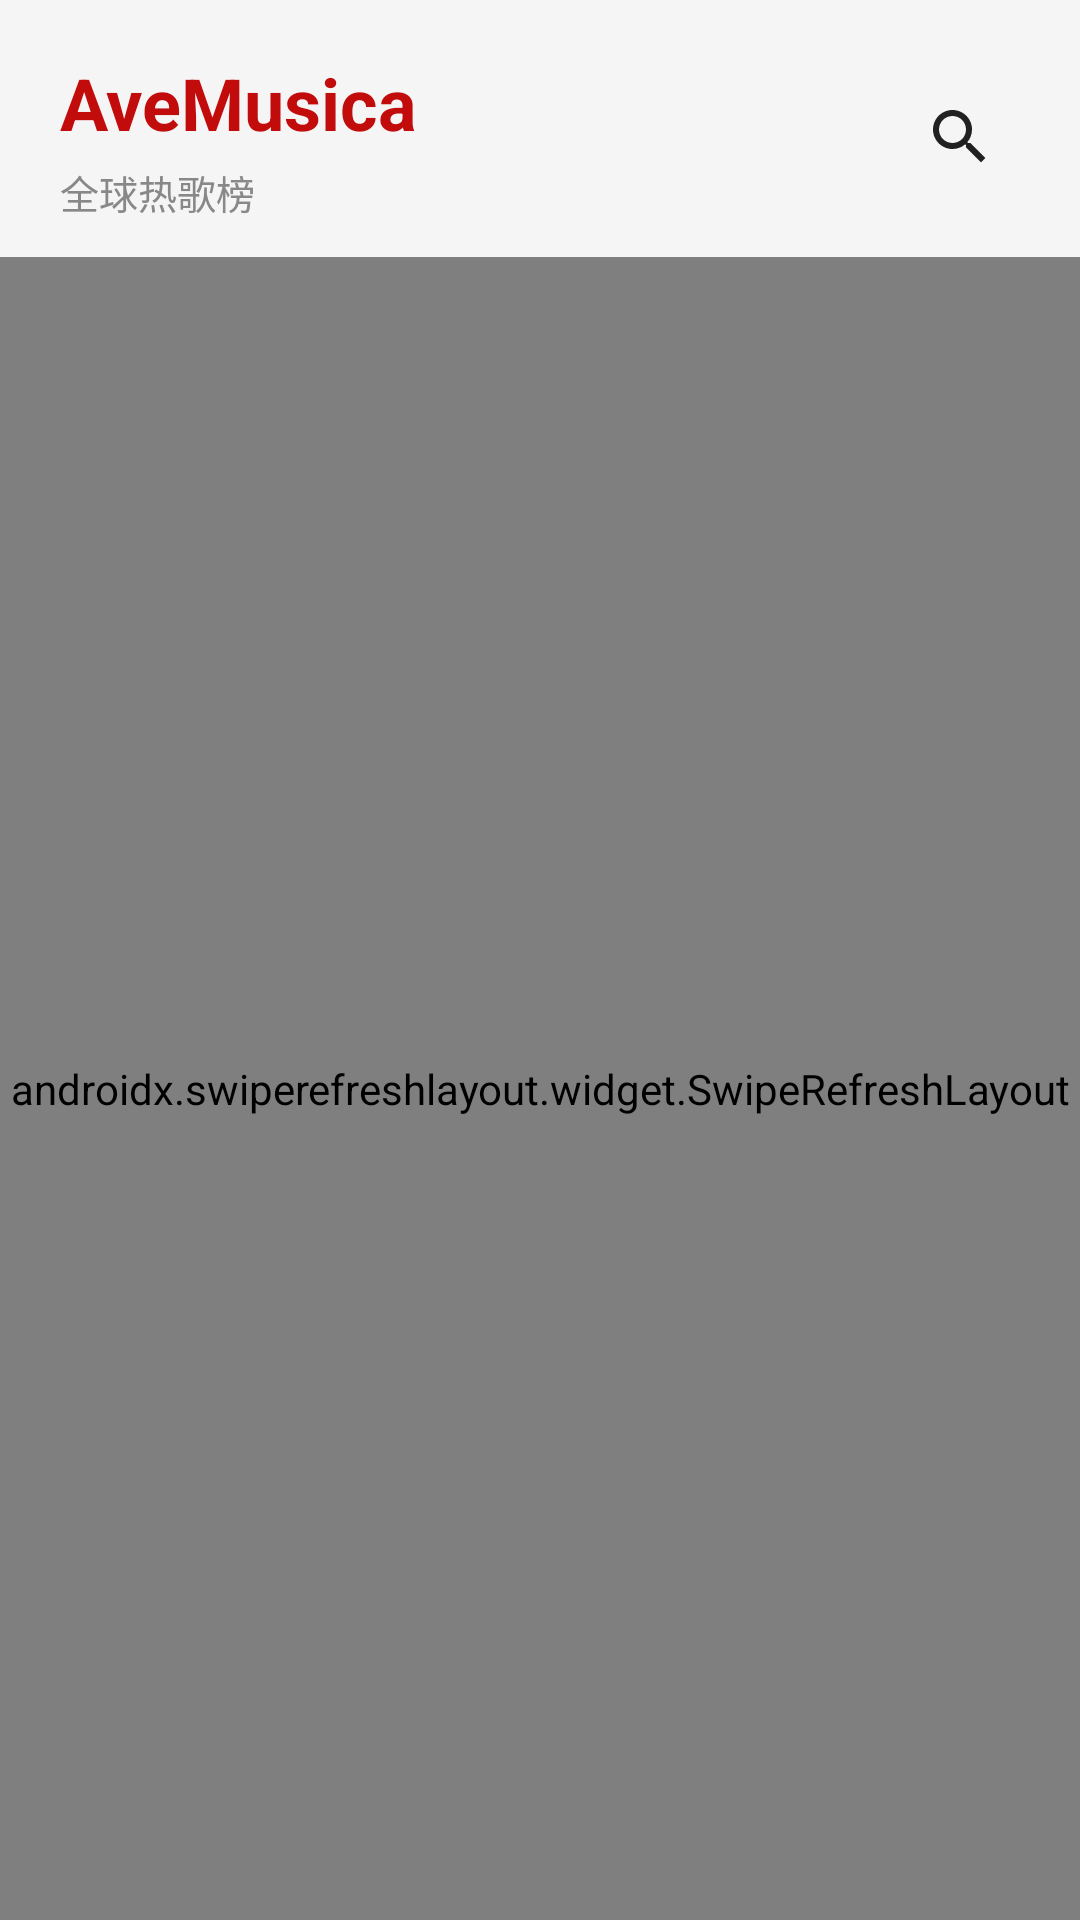

Screen size 1080*1920. Icon name, then its box in pixels as bbox=[x1, y1, x2, y2]:
搜索: bbox=[933, 110, 985, 162]
